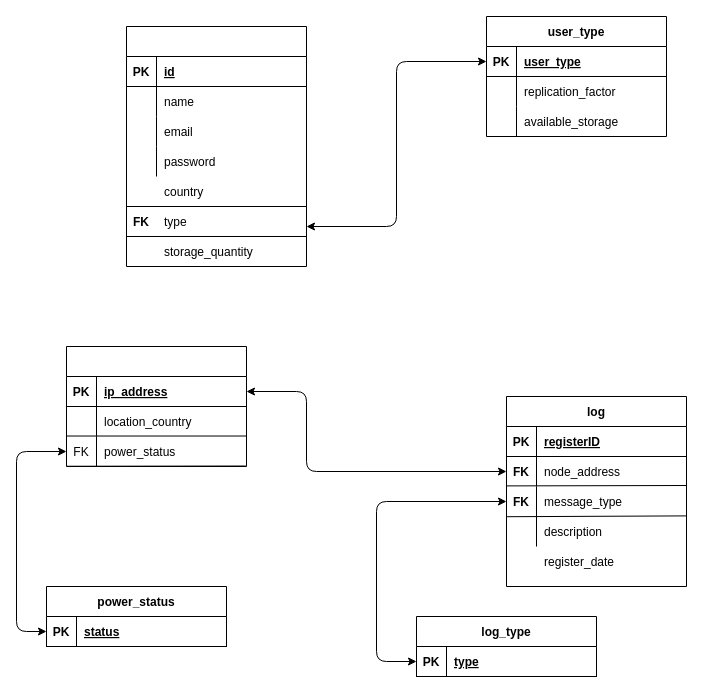
The diagram is 703 pixels wide and 693 high, and some of its shapes have lost their labels. The box of each missing label's shape, as (x1, y1, x2, y2) in pixels:
internal_node: (66, 346, 246, 466)
user: (126, 26, 306, 266)
